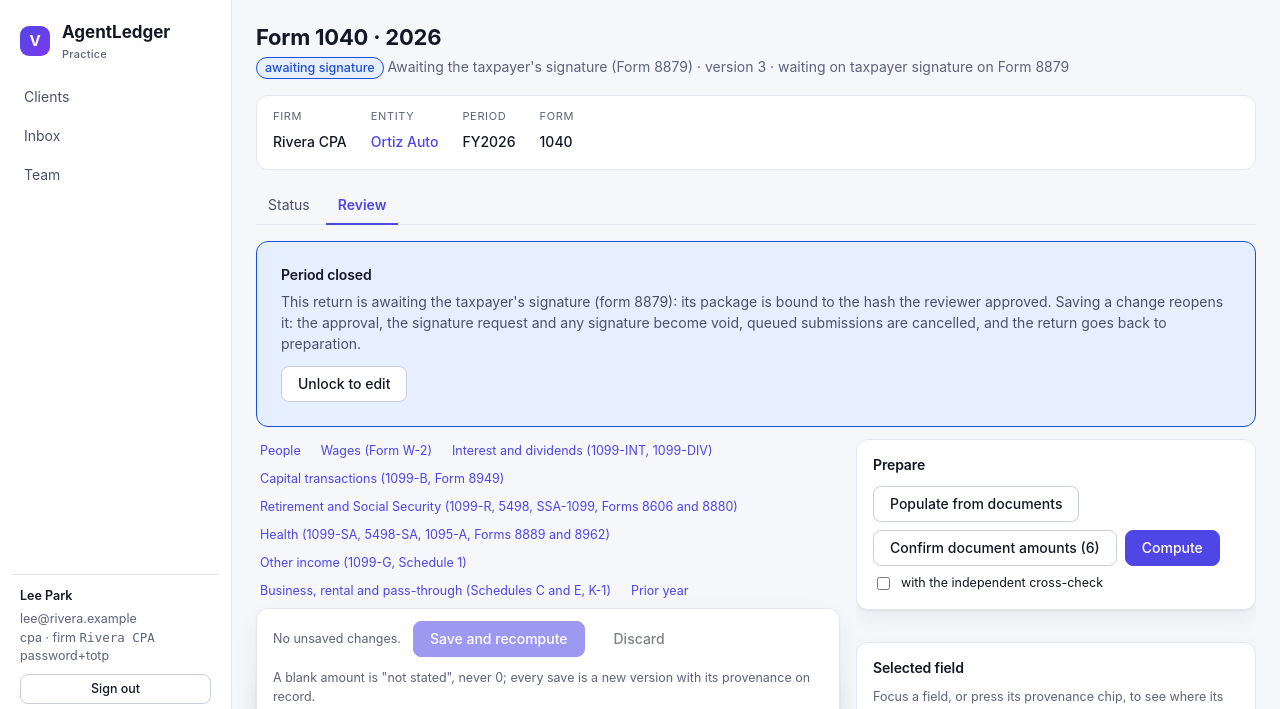
Test case: frozen inputs › a hash-bound status locks the editor until unlocked, saying that saving reopens the return
Expected: the message "Period closed" shows "bound to the hash the reviewer approved", x1=281 y1=293 x2=1052 y2=310
What coordinates should you click on to do the following:
click the button "Unlock to edit"
I would click on:
 (344, 384)
Its box is x1=281 y1=366 x2=407 y2=402.
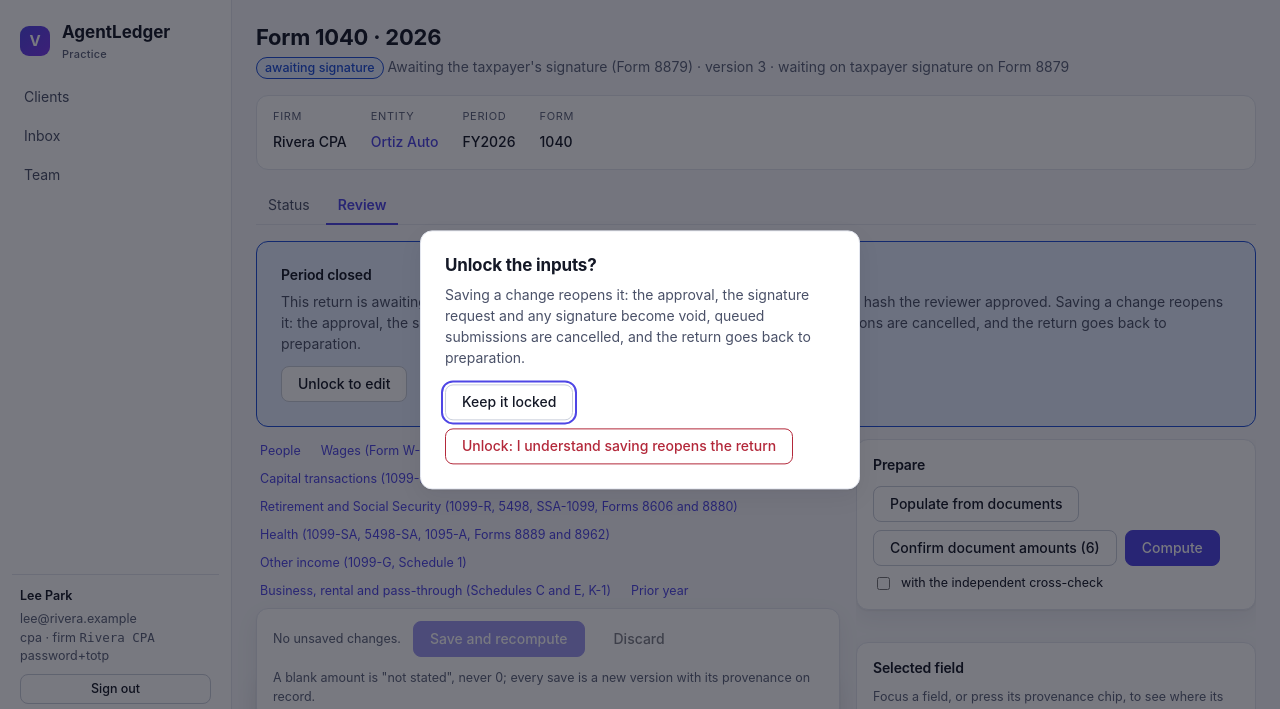
What coordinates should you click on to do the following:
click the button "Unlock: I understand saving reopens the return"
I would click on:
 (619, 447)
Its box is x1=445 y1=429 x2=793 y2=465.
(page scrolled)
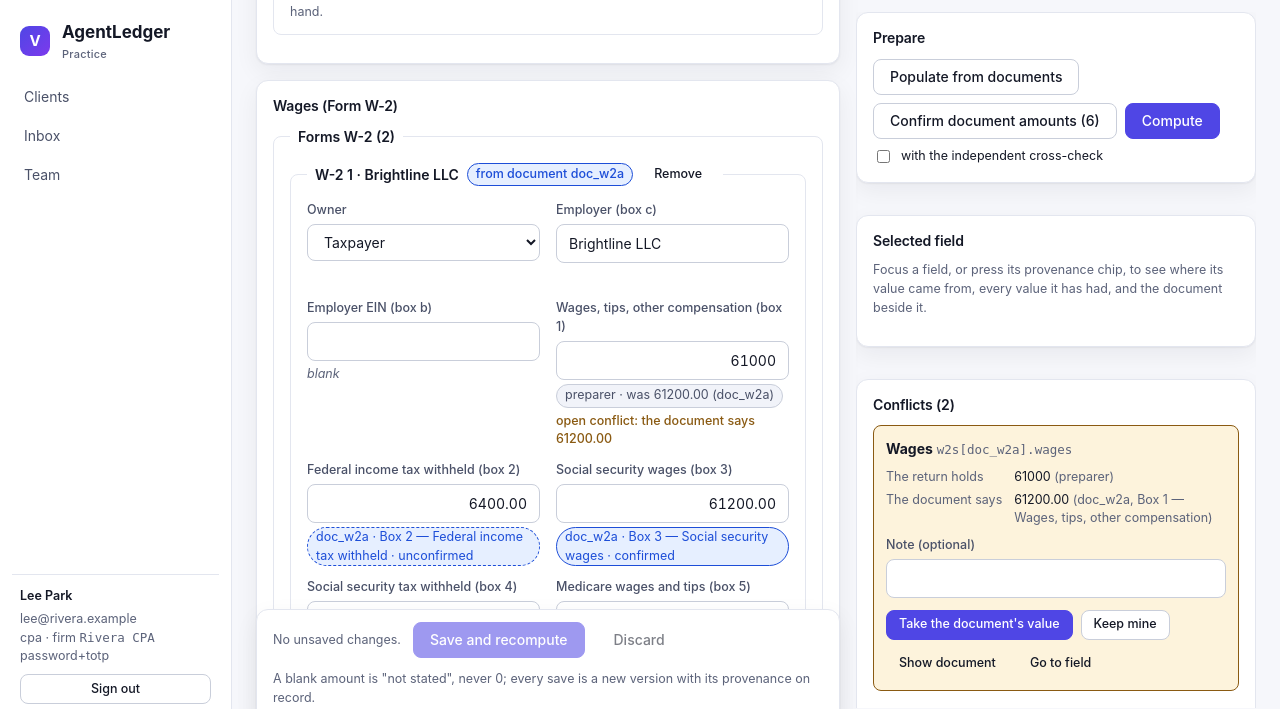
Expected: the field labelled "Wages, tips, other compensation (box 1)" is enabled, x1=556 y1=340 x2=789 y2=380
